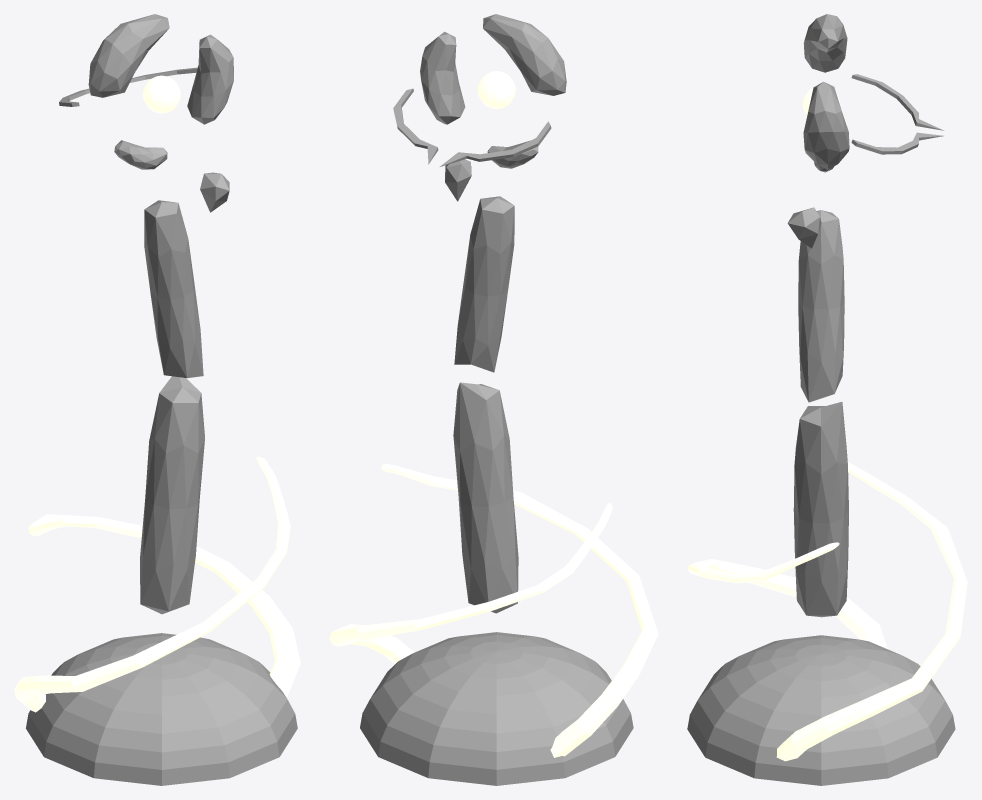
The model's file is lvl2S.fbx.
The picture shows the model from 3 angles, left to right: view 1: azimuth 30°, elevation 25°; view 2: azimuth 150°, elevation 25°; view 3: azimuth 270°, elevation 25°; orthographic projection. The views are drawn at different scales.
Visible parts, largest first — view 1: sniper2; view 2: sniper2; view 3: sniper2.
Part boxes in pixels (x1=…): sniper2: x1=14, y1=14, x2=300, y2=785; sniper2: x1=329, y1=14, x2=658, y2=785; sniper2: x1=687, y1=14, x2=967, y2=785.
Size of the model in its own units: 325 by 829 by 301.
